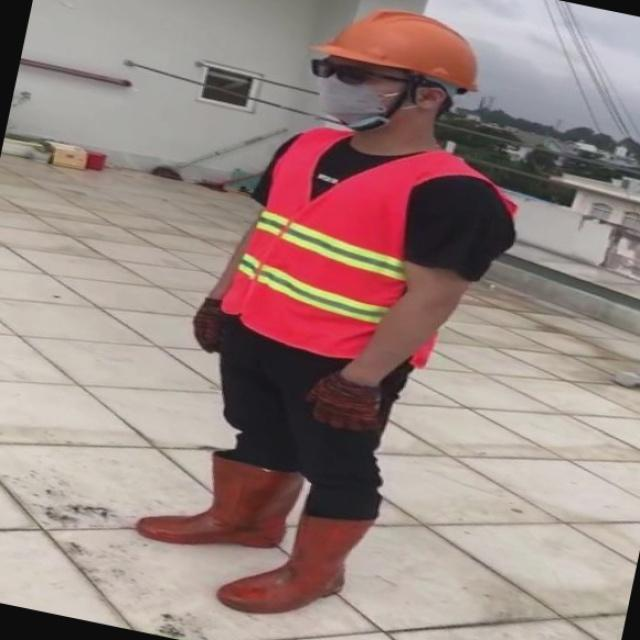helmet: (312, 3, 490, 99)
safety_vest: (214, 108, 534, 377)
